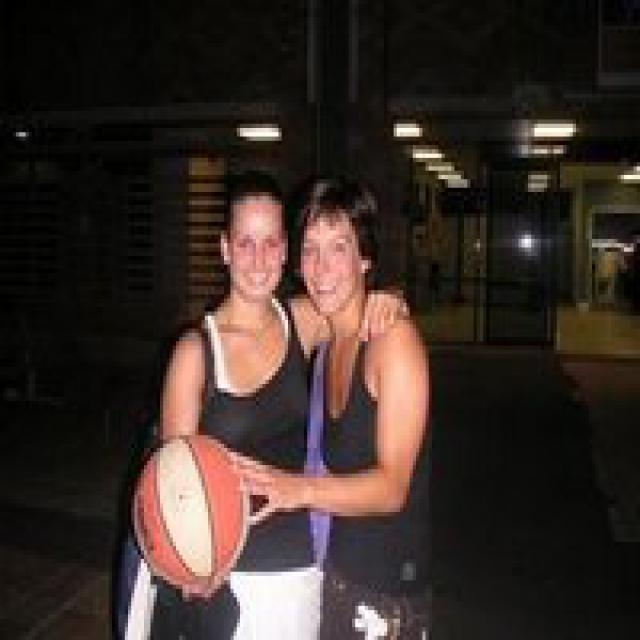basketball: (131, 439, 258, 587)
